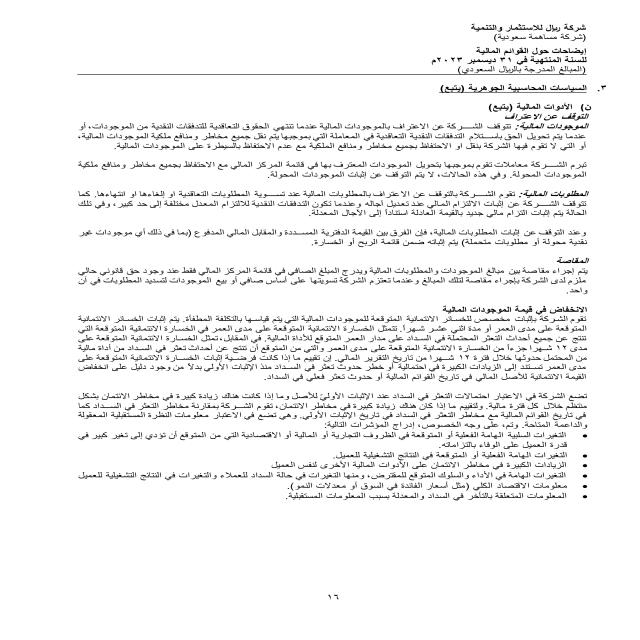notes: (462, 45, 592, 56)
